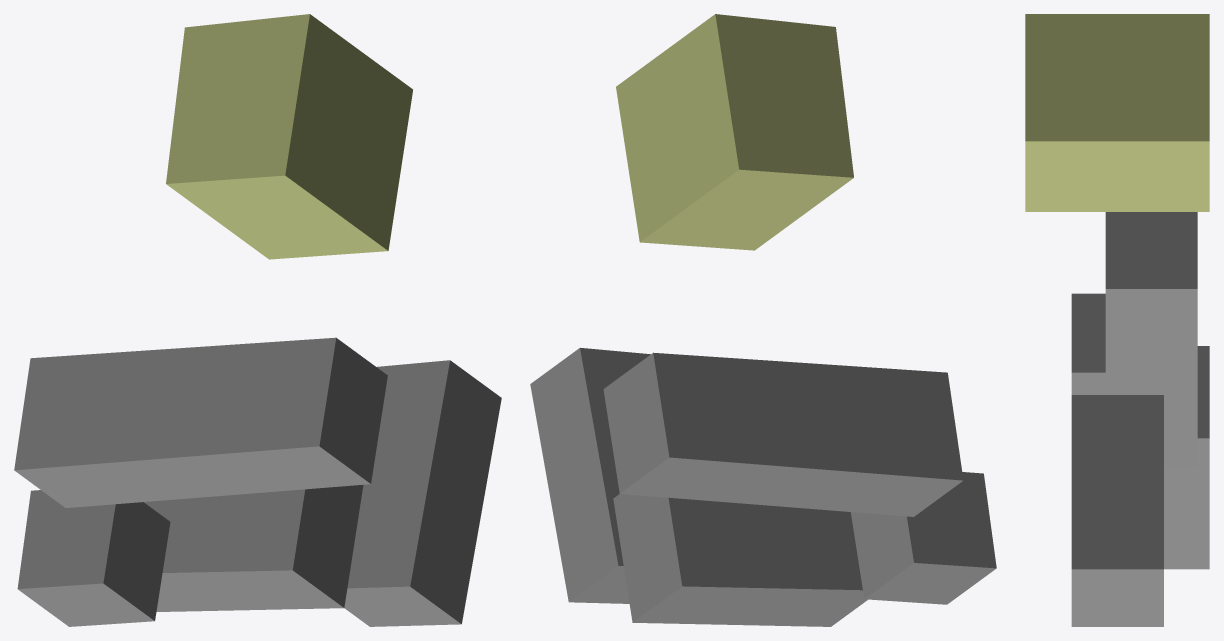
3 views of the same model, side by side, from view 1: azimuth 30°, elevation 25°; view 2: azimuth 150°, elevation 25°; view 3: azimuth 270°, elevation 25° (orthographic). The views are drawn at different scales.
Visible parts, largest first — view 1: 0_2_3_3_3_0_2_0_1_2; view 2: 0_2_3_3_3_0_2_0_1_2; view 3: 0_2_3_3_3_0_2_0_1_2.
Part boxes in pixels (left/top/right/bottom): 0_2_3_3_3_0_2_0_1_2: left=14, top=14, right=501, bottom=626; 0_2_3_3_3_0_2_0_1_2: left=530, top=14, right=996, bottom=626; 0_2_3_3_3_0_2_0_1_2: left=1025, top=14, right=1209, bottom=626.
Size of the model in its own units: 14.52 by 18.89 by 6.
